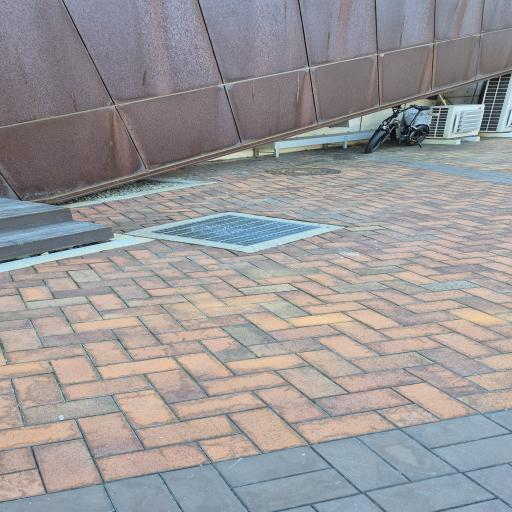drain: (154, 215, 310, 246)
